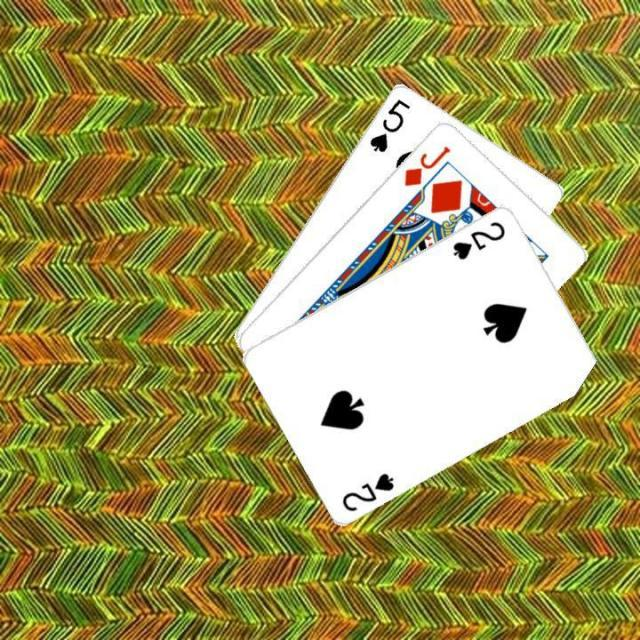2S: (449, 217, 507, 261), (338, 468, 396, 512)
5S: (366, 94, 412, 154)
JD: (400, 142, 452, 188)
